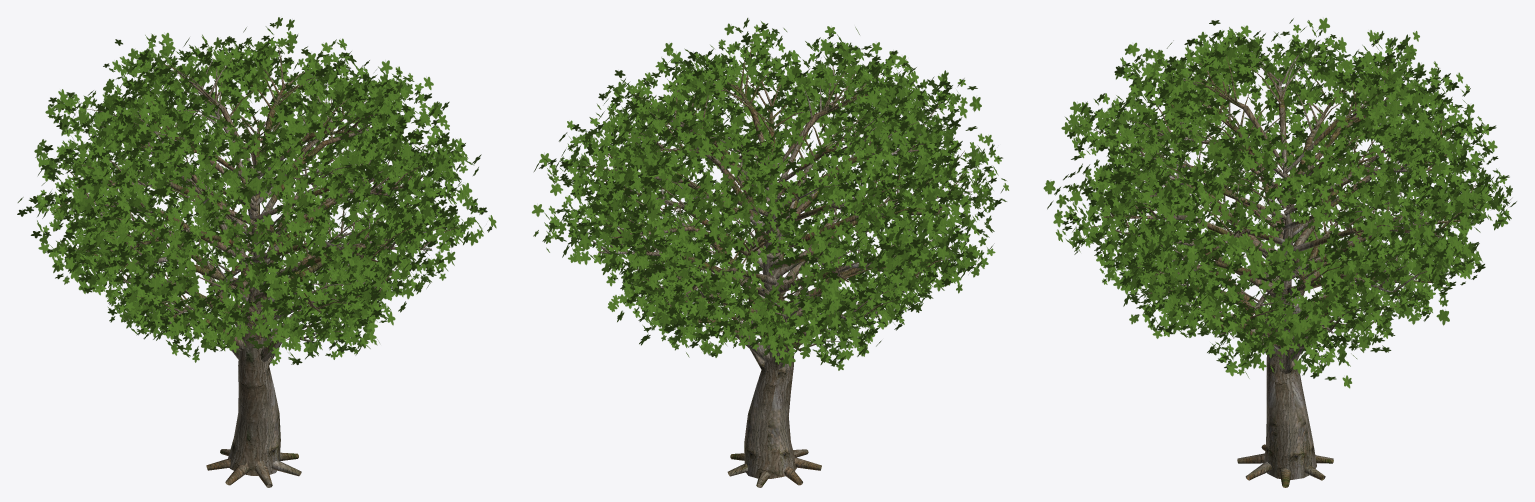
Rendered from tour-flowering.glb.
The picture shows the model from 3 angles, left to right: view 1: azimuth 30°, elevation 25°; view 2: azimuth 150°, elevation 25°; view 3: azimuth 270°, elevation 25°; orthographic projection.
Parts seen in each view (by area): view 1: red-maple; view 2: red-maple; view 3: red-maple.
Boxes of the visible parts, bbox=[...] form: red-maple: bbox=[17, 17, 496, 487]; red-maple: bbox=[532, 18, 1009, 487]; red-maple: bbox=[1043, 17, 1516, 487].
Size of the model in its own units: 7.31 by 6.98 by 7.49.
2 materials, 2 textured.
